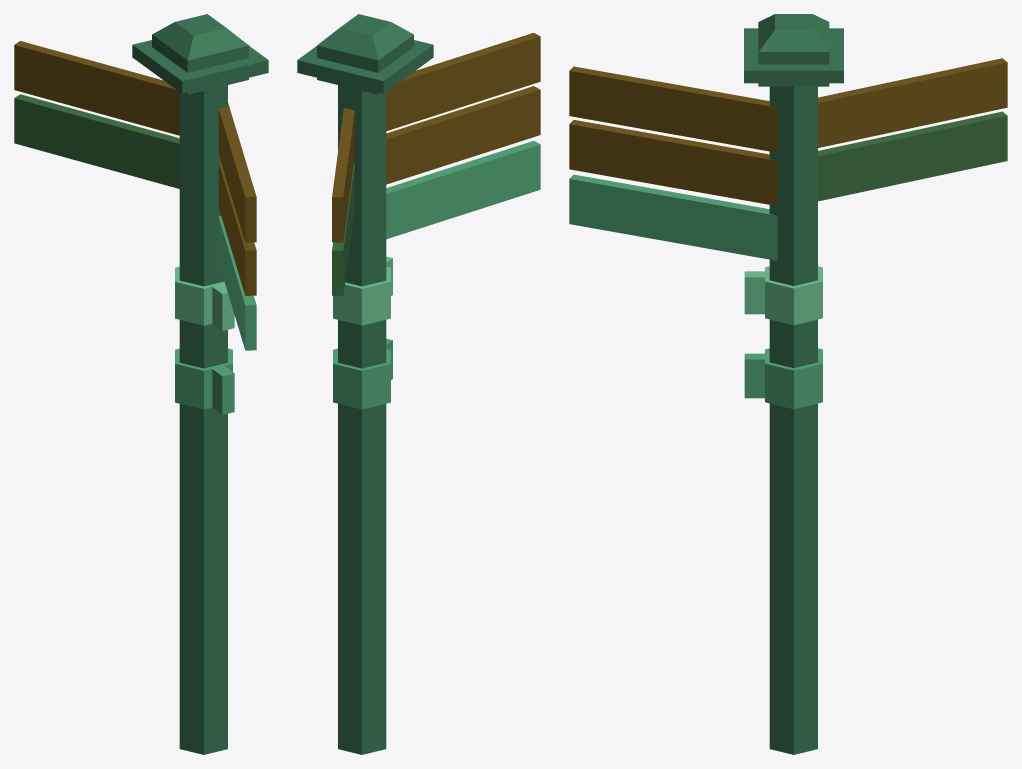
Rendered from Green Sign-Post.fbx.
3 renders of one model, left to right at view 1: azimuth 30°, elevation 25°; view 2: azimuth 150°, elevation 25°; view 3: azimuth 270°, elevation 25°, orthographic.
Parts seen in each view (by area): view 1: pCube6; view 2: pCube6; view 3: pCube6.
Boxes of the visible parts, bbox=[...] form: pCube6: bbox=[14, 14, 268, 754]; pCube6: bbox=[297, 14, 540, 754]; pCube6: bbox=[569, 14, 1007, 754].
Size of the model in its own units: 0.211 by 1.16 by 0.6387.
